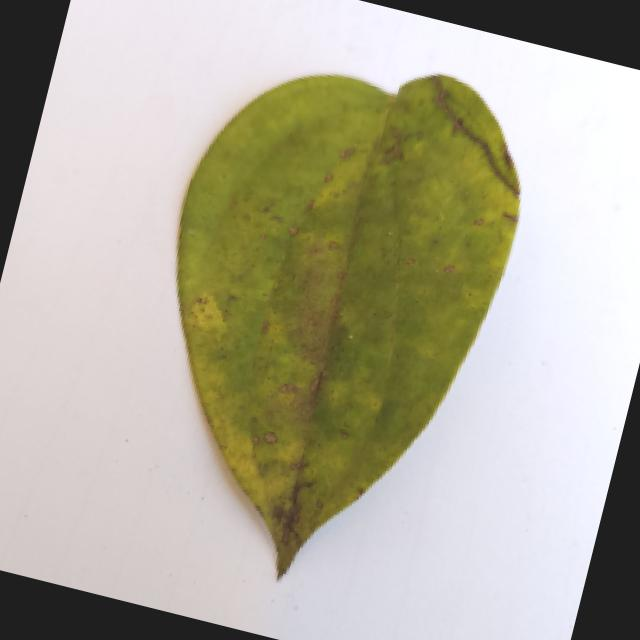slow-decline: (90, 18, 560, 616)
